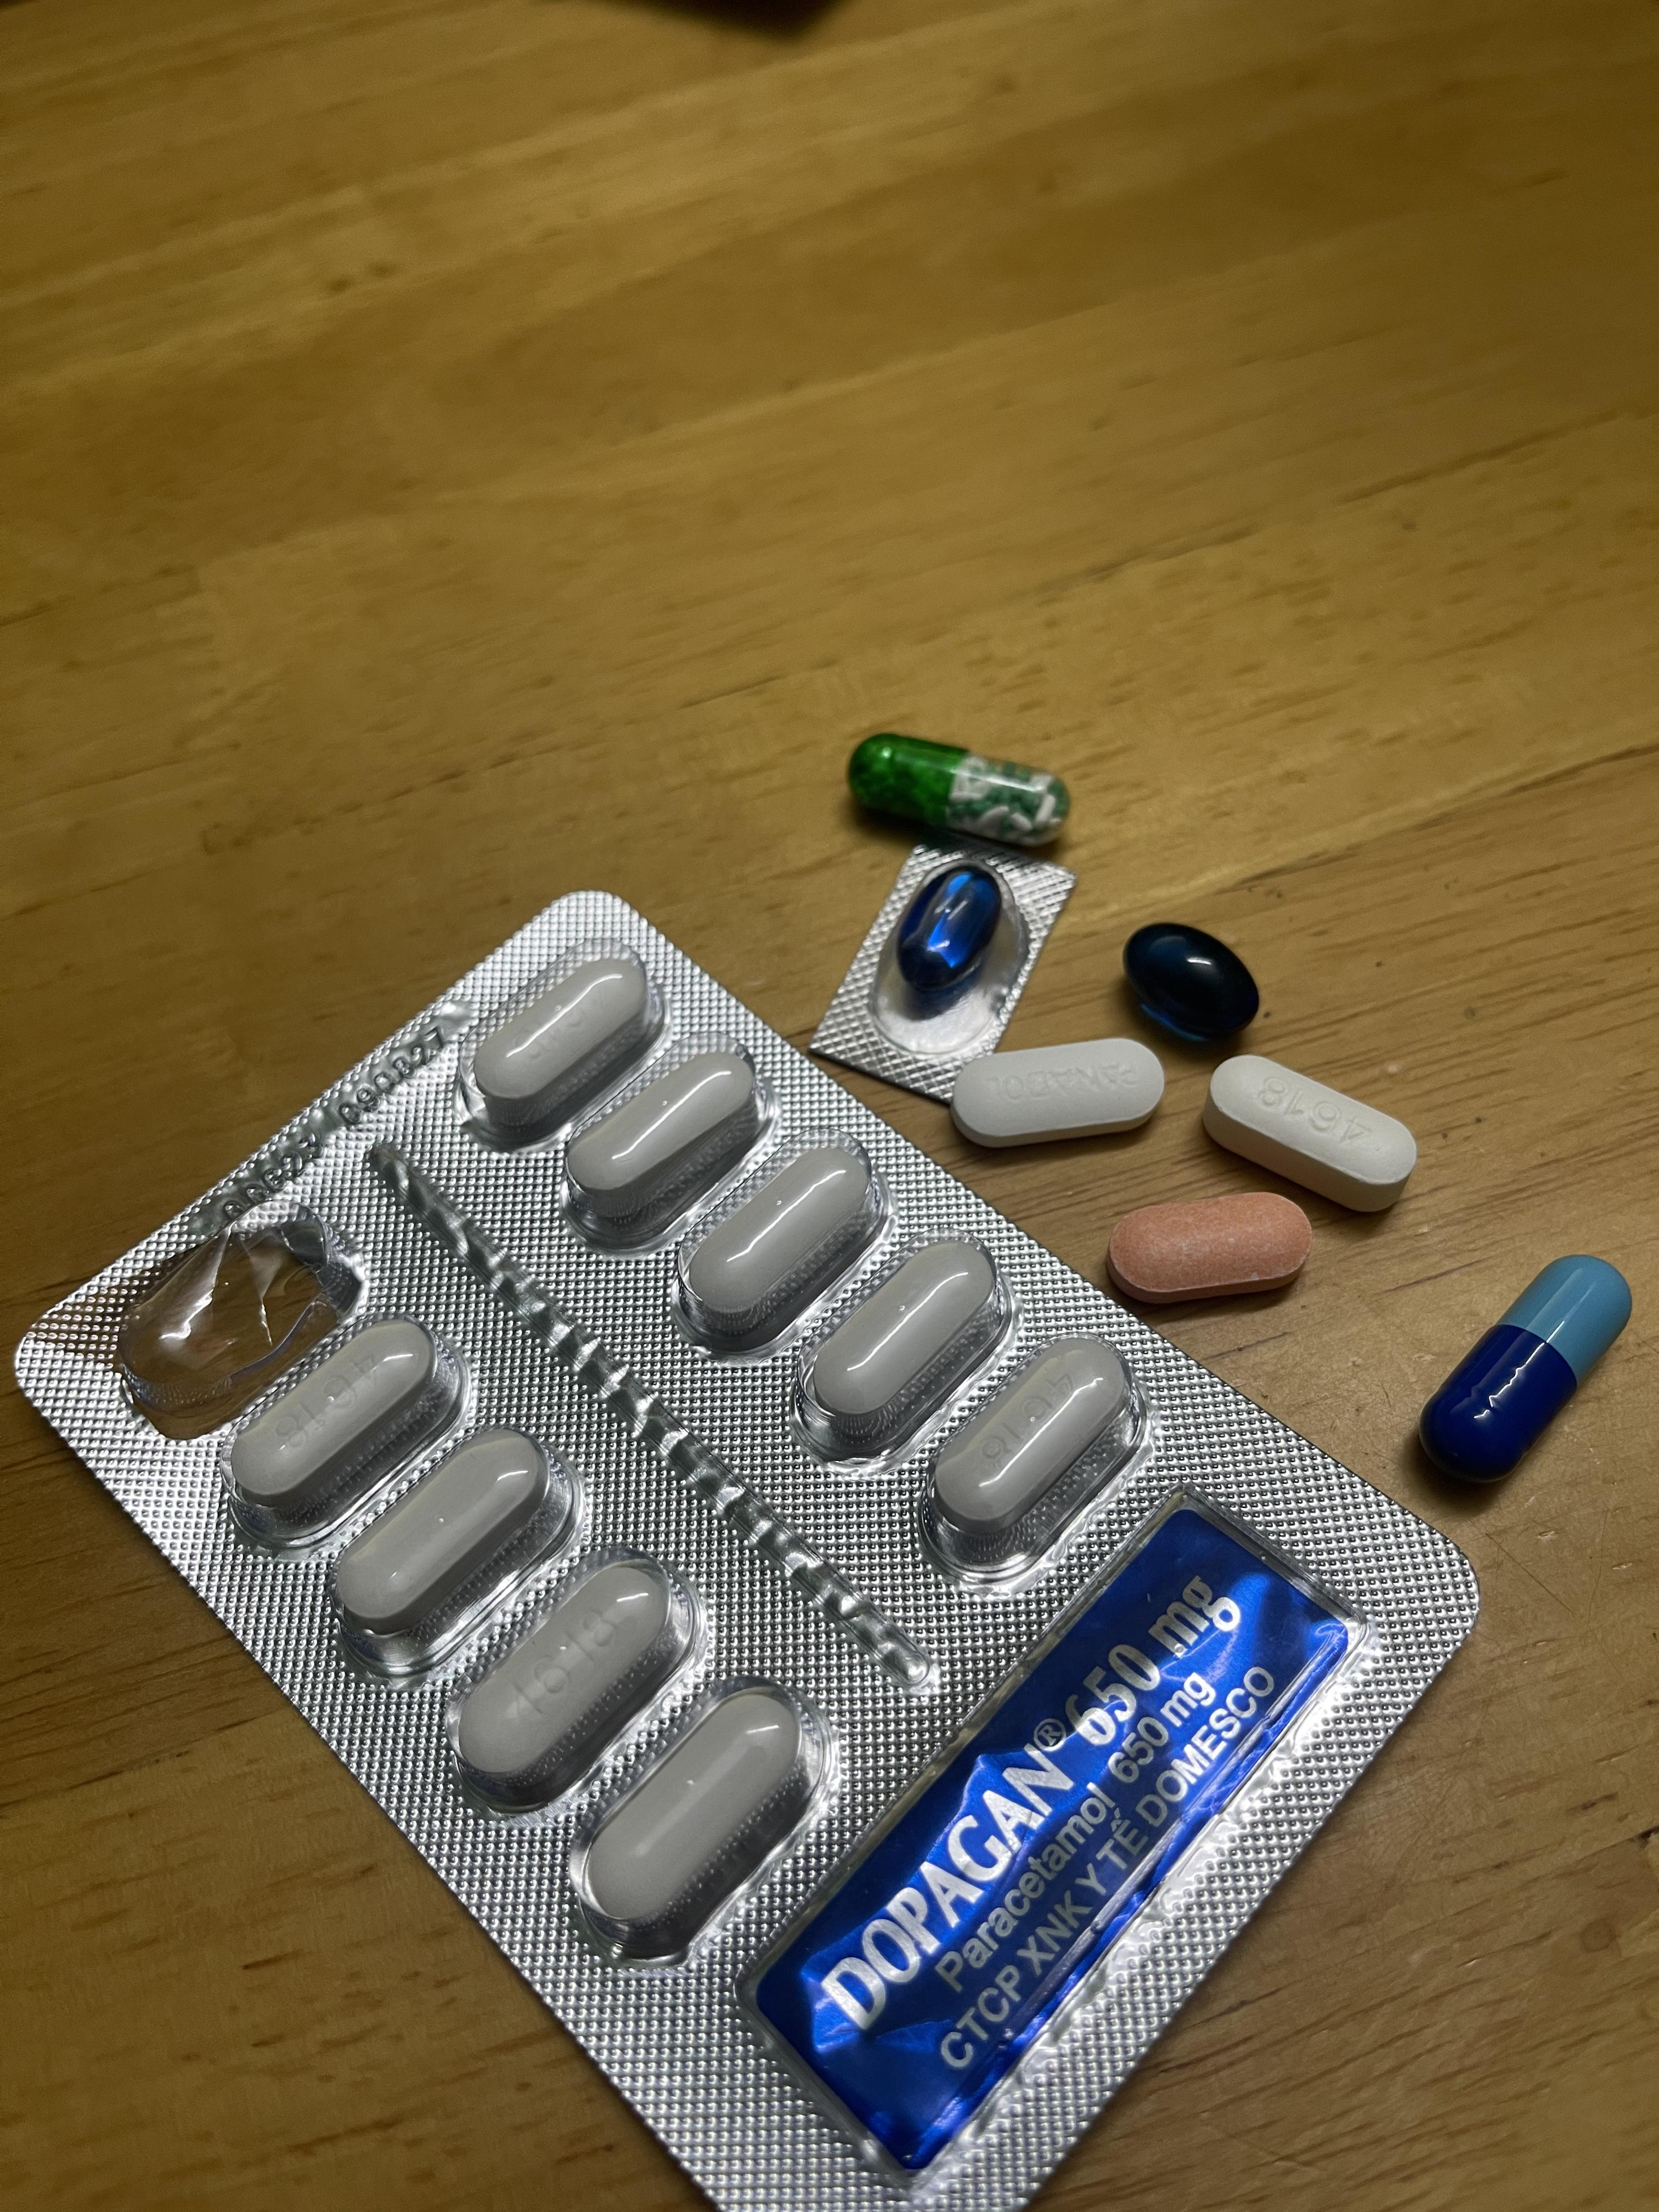Lincomyxin_500mg: (1121, 921, 1260, 1047), (894, 869, 1000, 1001)
Loratadine_10mg: (1107, 1193, 1312, 1303)
Paracetamol_350mg: (950, 1036, 1161, 1148)
Paracetamol_500mg: (321, 1423, 575, 1686), (575, 1689, 817, 1954), (446, 1555, 695, 1803), (917, 1334, 1141, 1587), (791, 1235, 1007, 1467), (225, 1315, 450, 1524), (556, 1047, 770, 1251), (671, 1144, 877, 1353), (464, 944, 660, 1137), (1208, 1057, 1415, 1200)
Paracetamol_650mg: (850, 737, 1066, 852)
pill: (1424, 1258, 1629, 1479)
